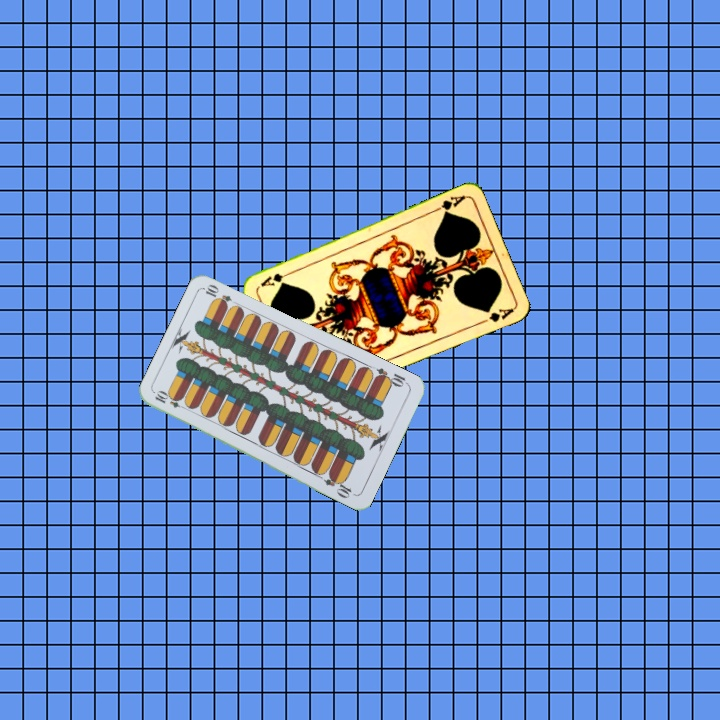E10: (371, 363, 411, 390), (151, 388, 190, 412)
GA: (429, 191, 468, 217)
